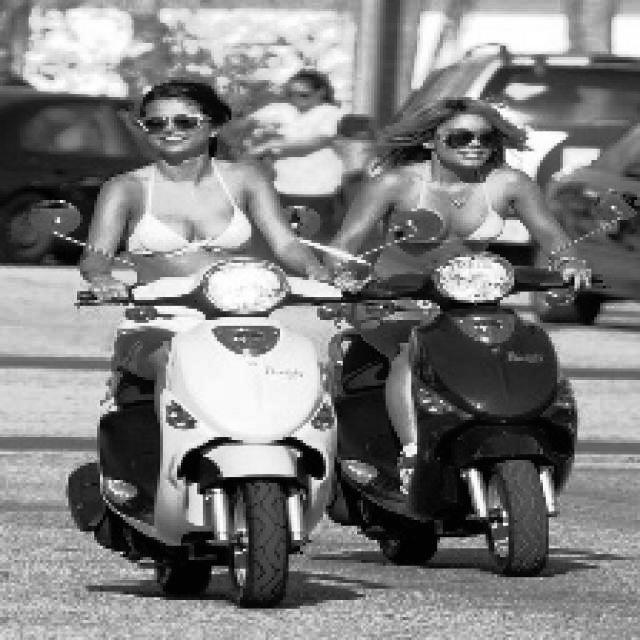Bike: (97, 264, 347, 639), (359, 264, 593, 597)
